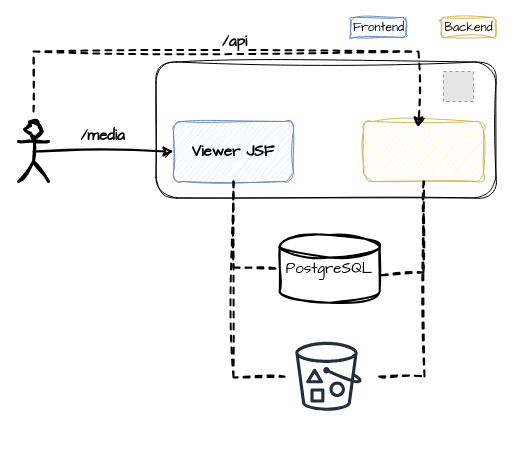
Some shapes in this 514 by 462 pixel diagram are drawn without their labels. Grey dashed boxes stand in for pictures. Each missing label, with the centre of its shape:
"MinIO" goes at point 328,375.
"REST" goes at point 423,151.
